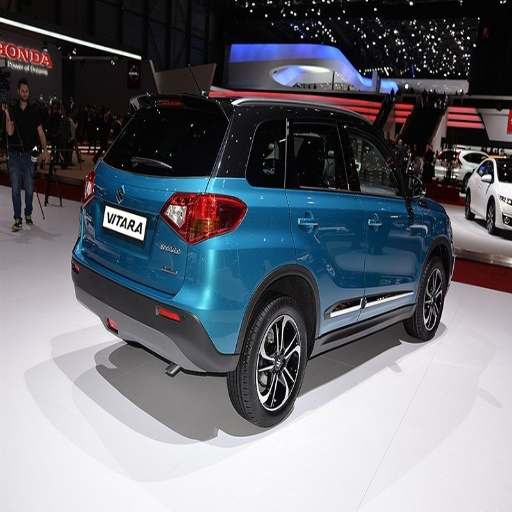back_bumper: (79, 232, 260, 372)
back_right_door: (286, 108, 365, 334)
trunk: (86, 166, 200, 286)
